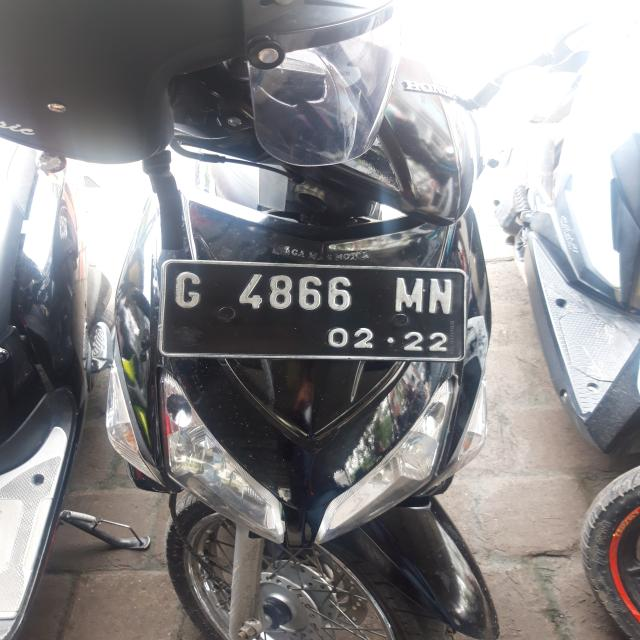plate: (158, 262, 462, 360)
